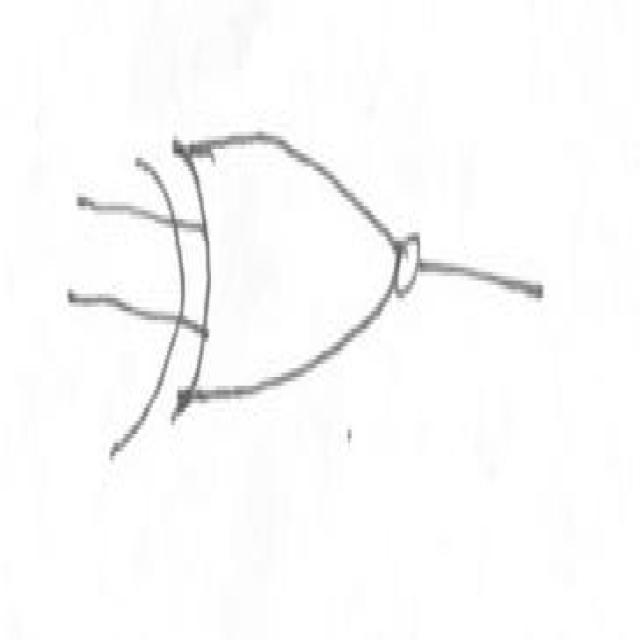XNOR: (117, 94, 433, 511)
